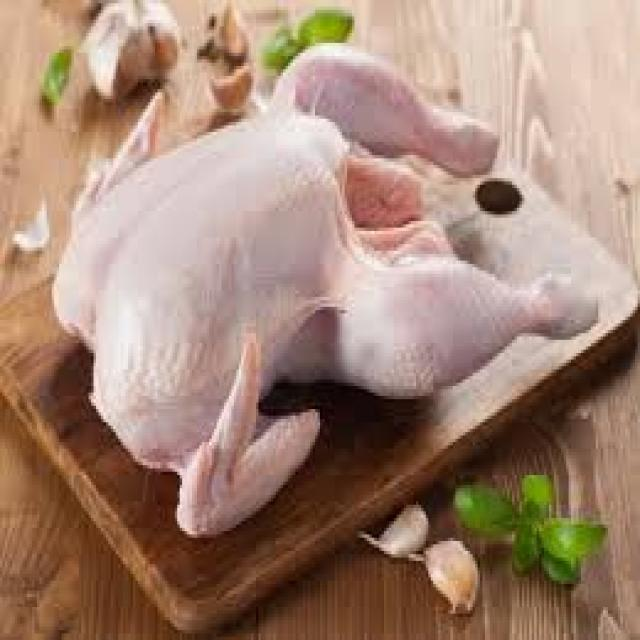chicken: (52, 31, 608, 532)
